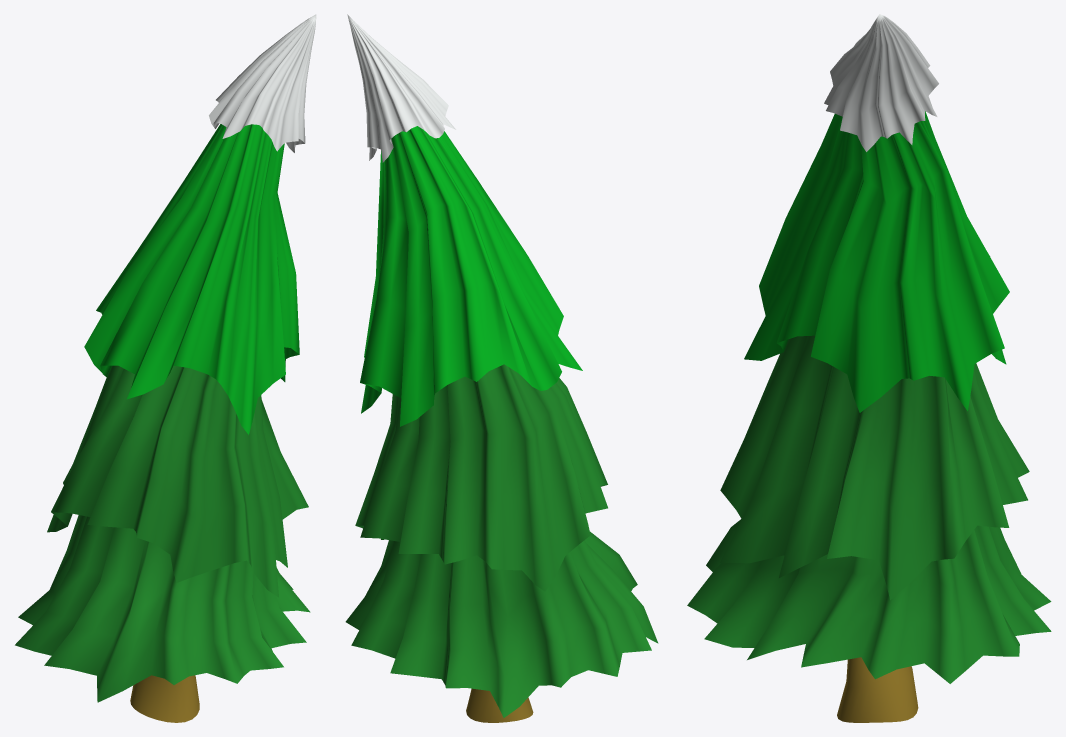
The model's file is TREE-PINE-BENT.glb.
The picture shows the model from 3 angles, left to right: view 1: azimuth 30°, elevation 25°; view 2: azimuth 150°, elevation 25°; view 3: azimuth 270°, elevation 25°; orthographic projection. The views are drawn at different scales.
Parts seen in each view (by area): view 1: TREE - PINE - BENT; view 2: TREE - PINE - BENT; view 3: TREE - PINE - BENT.
Part boxes in pixels (left/top/right/bottom): TREE - PINE - BENT: left=15, top=14, right=316, bottom=722; TREE - PINE - BENT: left=345, top=14, right=658, bottom=722; TREE - PINE - BENT: left=687, top=14, right=1051, bottom=722.
Size of the model in its own units: 3.14 by 6.88 by 2.89.
